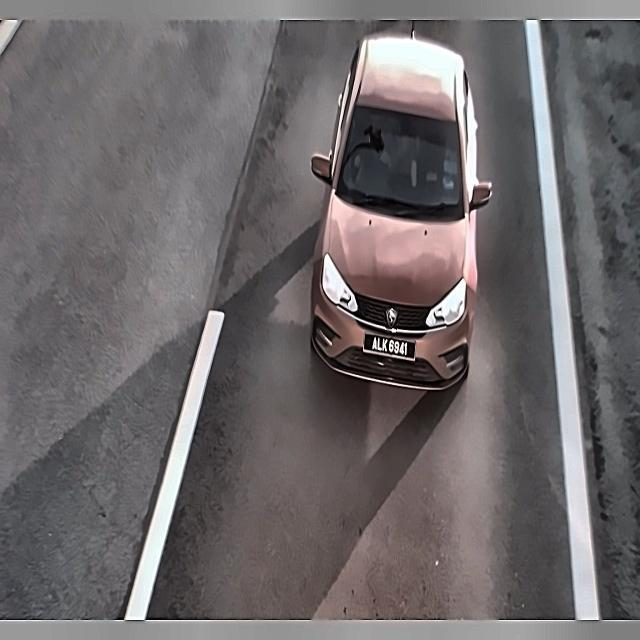car: (364, 320, 416, 371)
